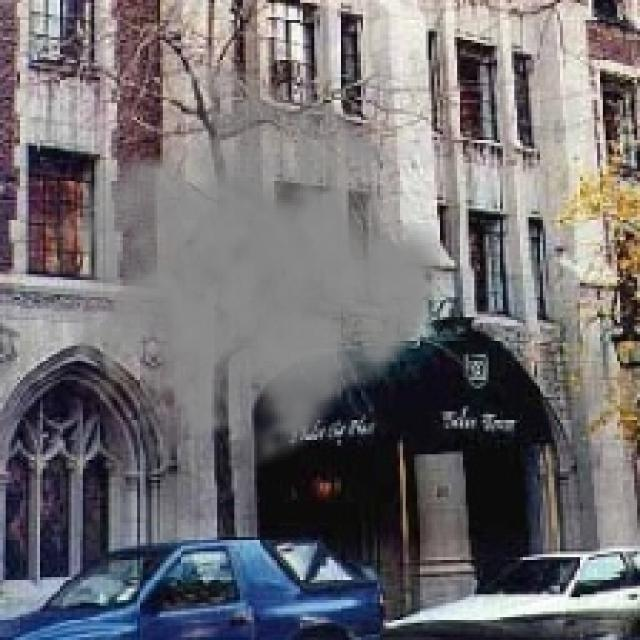Smoke: (49, 54, 452, 480)
